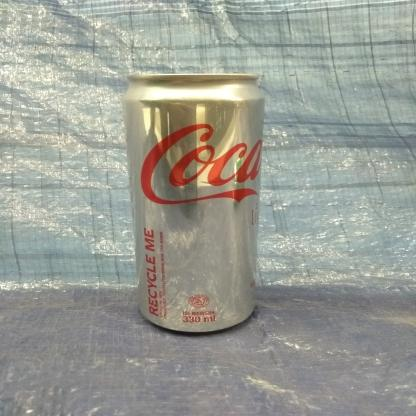mouse: (120, 70, 275, 339)
